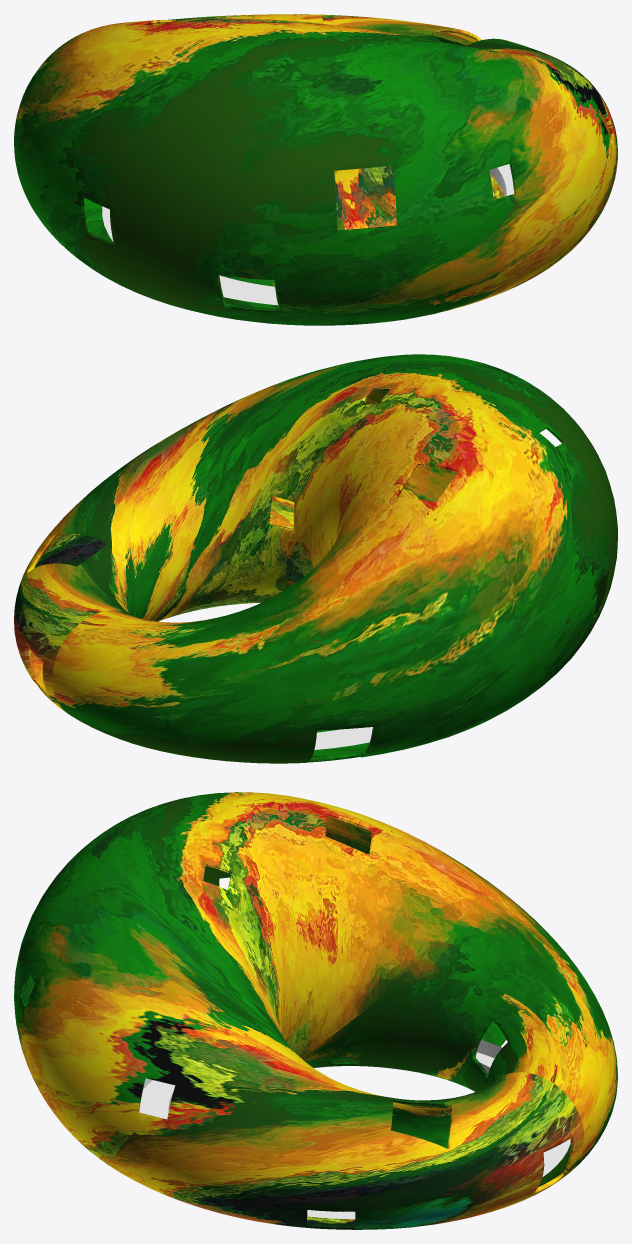
3 renders of one model, top to bottom at view 1: azimuth 30°, elevation 25°; view 2: azimuth 150°, elevation 25°; view 3: azimuth 270°, elevation 25°, orthographic. The views are drawn at different scales.
Visible parts, largest first — view 1: Solids, Ramps_2; view 2: Solids, Ramps_2; view 3: Solids, Ramps_2.
Boxes of the visible parts, x1,y1,x2,y2 form: Solids: (14, 14, 617, 325); Ramps_2: (102, 164, 514, 305); Solids: (14, 354, 617, 763); Ramps_2: (314, 727, 372, 749); Solids: (14, 792, 617, 1229); Ramps_2: (139, 1052, 570, 1219).
Bounding box in the file's own units: 58.9 × 28.99 × 59.51.
Materials: 2 (2 with a texture image).
